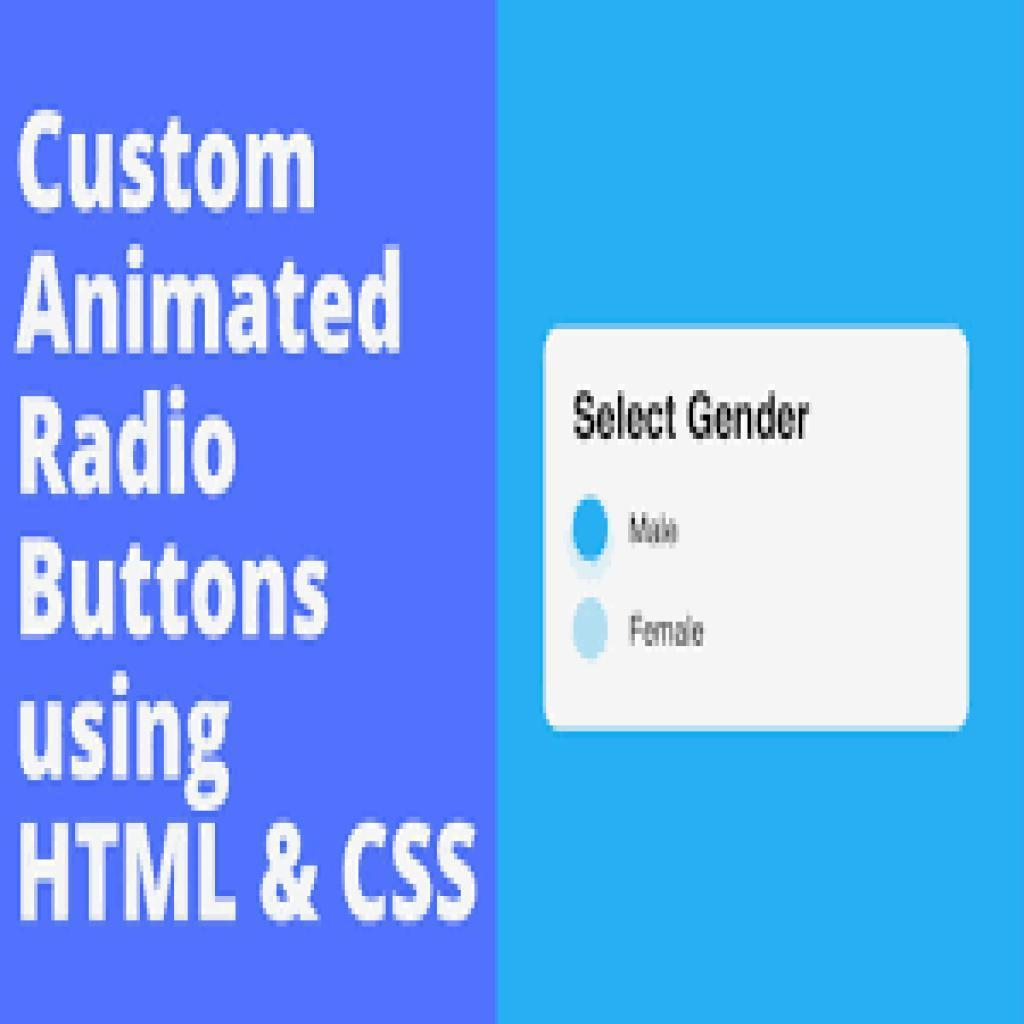label: (570, 387, 813, 446), (625, 609, 708, 650), (627, 507, 685, 553)
radio: (572, 493, 611, 569), (572, 596, 611, 668)
